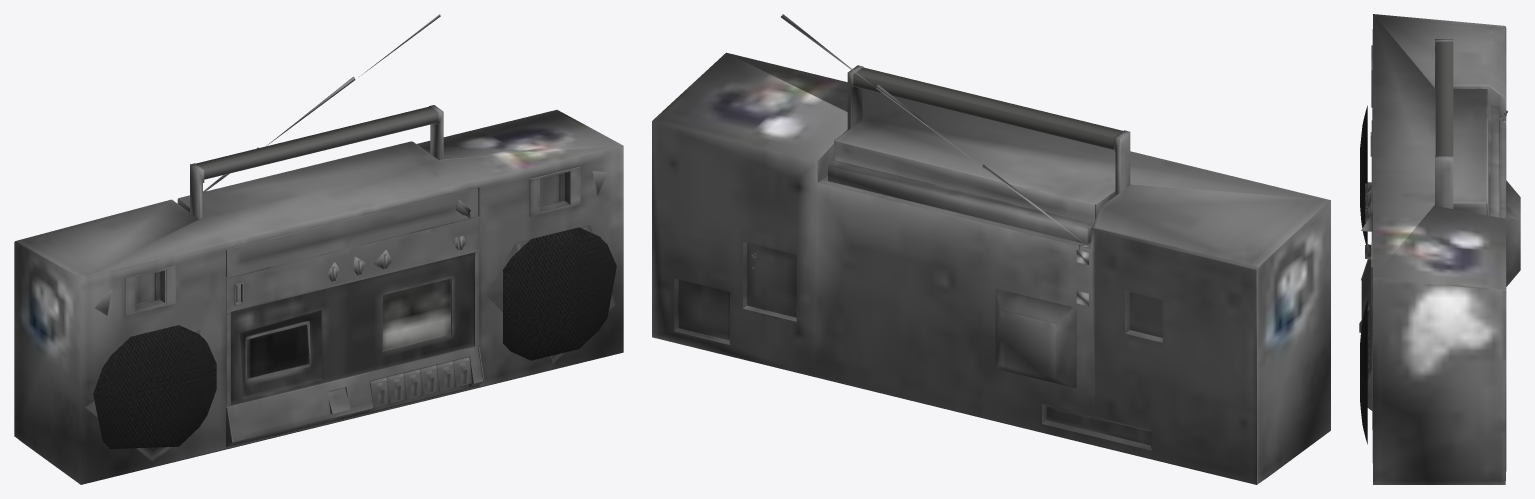
The model's file is radio_lo.glb.
3 views of the same model, side by side, from view 1: azimuth 30°, elevation 25°; view 2: azimuth 150°, elevation 25°; view 3: azimuth 270°, elevation 25° (orthographic). The views are drawn at different scales.
Visible parts, largest first — view 1: boombox; view 2: boombox; view 3: boombox.
Part boxes in pixels (x1=…): boombox: x1=14, y1=14, x2=623, y2=484; boombox: x1=652, y1=14, x2=1330, y2=484; boombox: x1=1359, y1=14, x2=1520, y2=484.
Size of the model in its own units: 0.7229 by 0.4061 by 0.1865.
2 materials, 2 textured.
